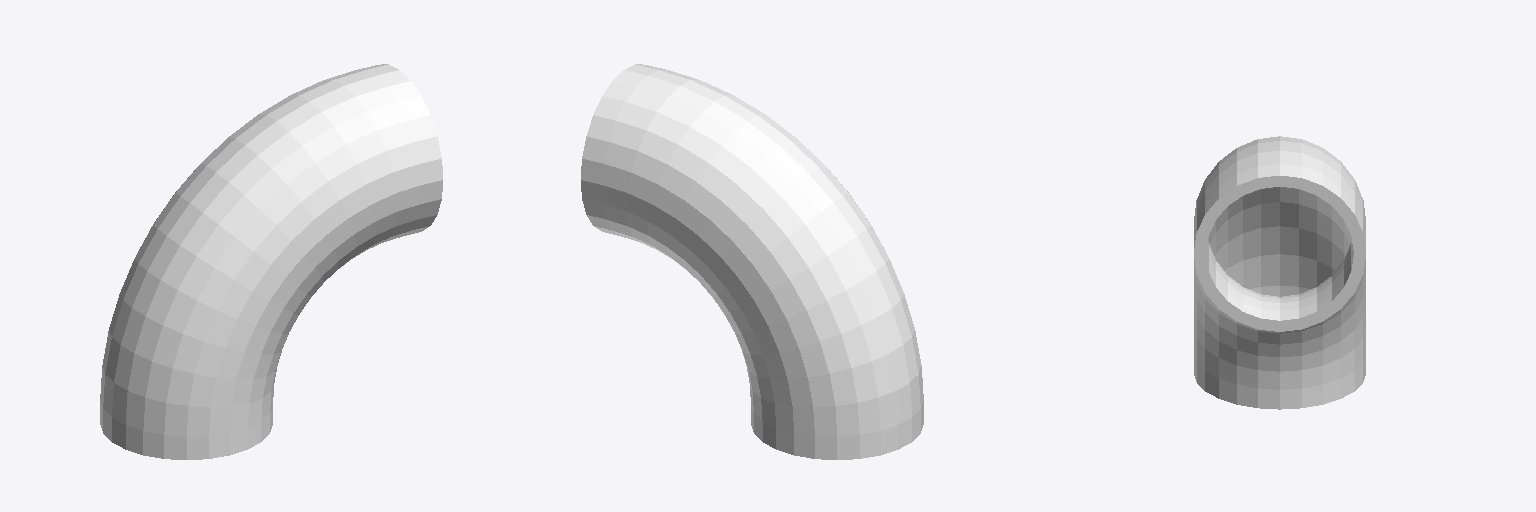
The model's file is CurvedPipe.obj.
The picture shows the model from 3 angles: view 1: azimuth 30°, elevation 25°; view 2: azimuth 150°, elevation 25°; view 3: azimuth 270°, elevation 25°; orthographic projection.
Visible parts, largest first — view 1: CurvedPipe_Main-Default_Material; view 2: CurvedPipe_Main-Default_Material; view 3: CurvedPipe_Main-Default_Material.
Part boxes in pixels (x1,y1,x2,y2): CurvedPipe_Main-Default_Material: (100, 64, 442, 459); CurvedPipe_Main-Default_Material: (581, 64, 923, 459); CurvedPipe_Main-Default_Material: (1194, 136, 1365, 409).
Size of the model in its own units: 2.7 by 2.7 by 1.4.